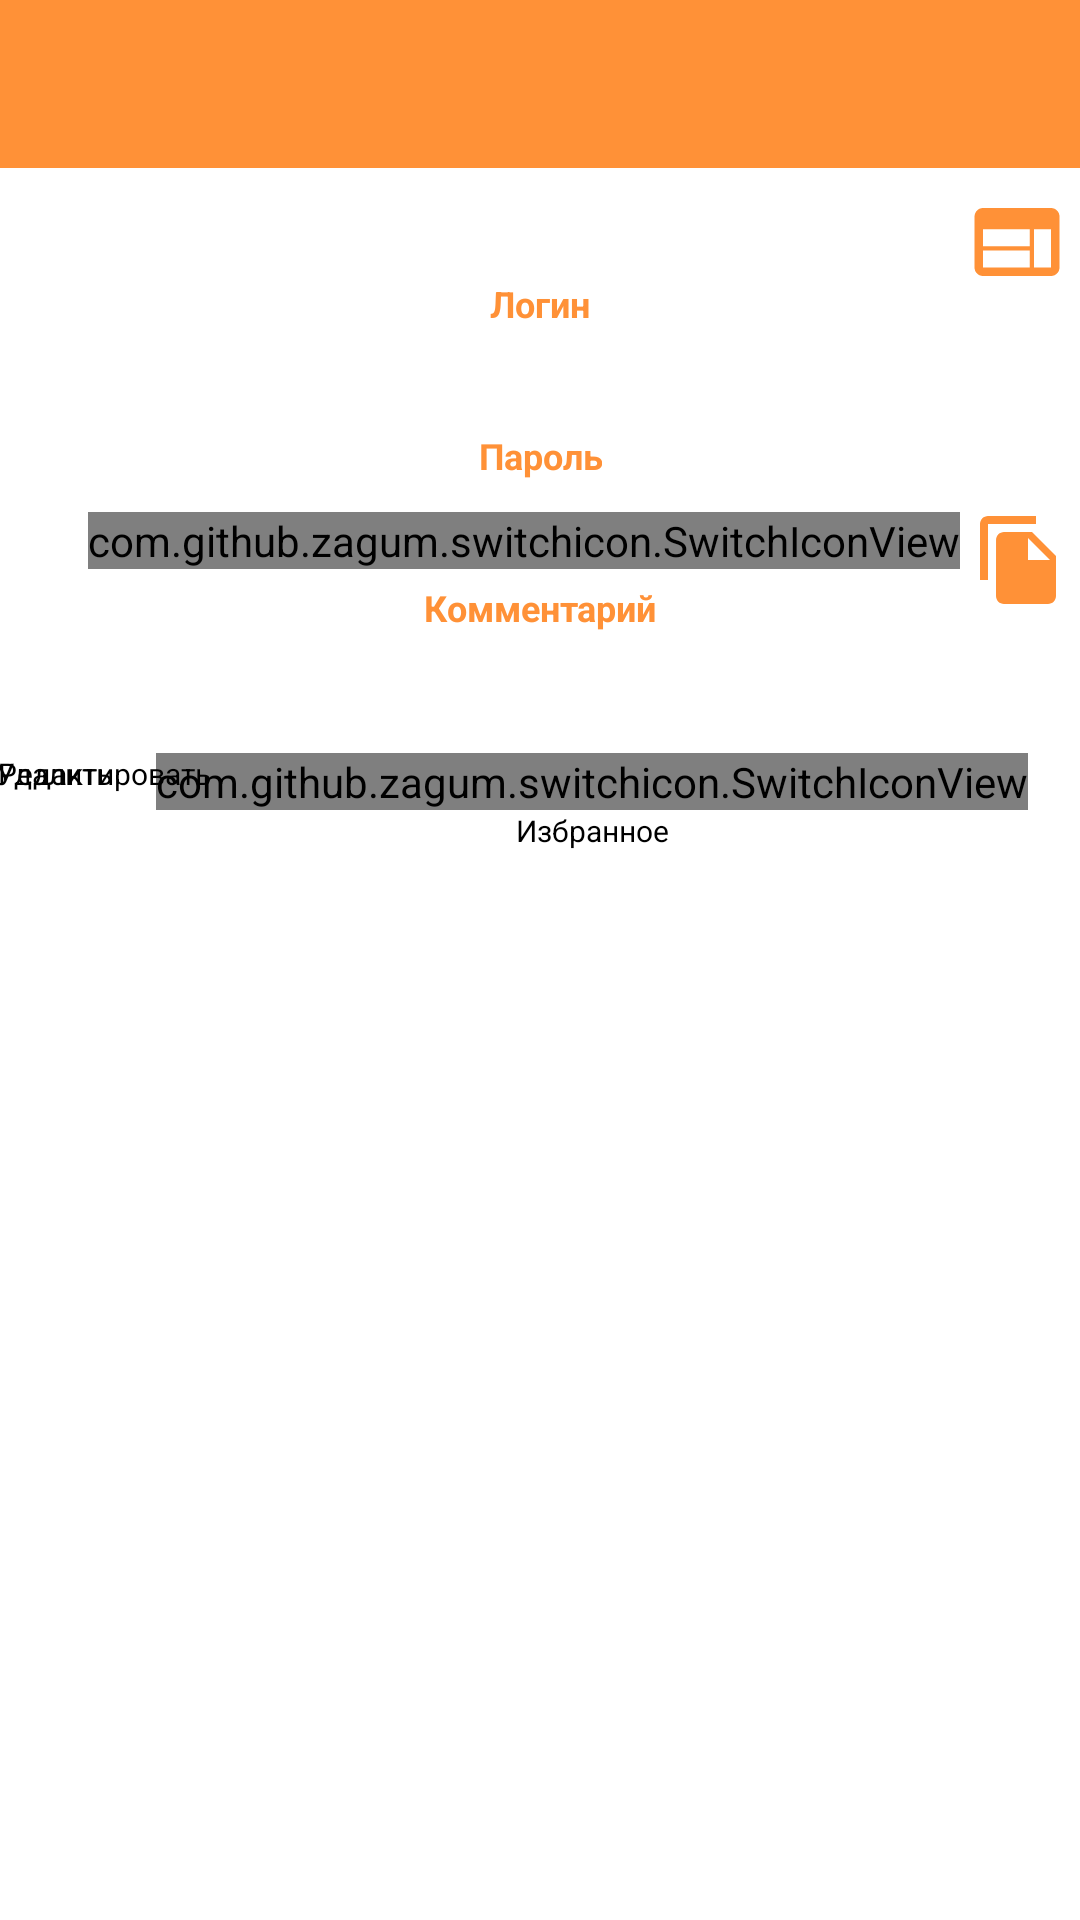

Icon click points for this 1080 x 1920 phone screenshot, format point (x, y):
web: point (1017, 242)
